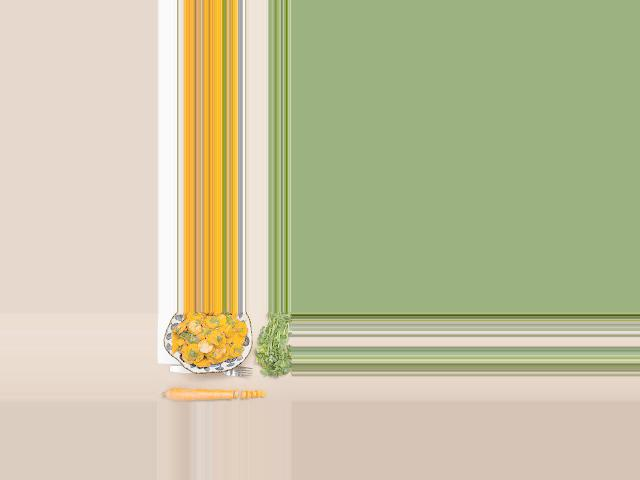carrot: (163, 389, 232, 403)
